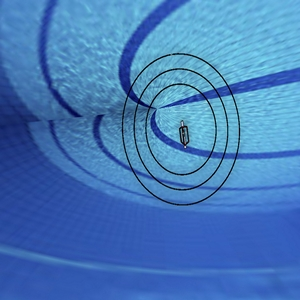circle: (104, 32, 253, 212)
submarine: (170, 113, 196, 150)
